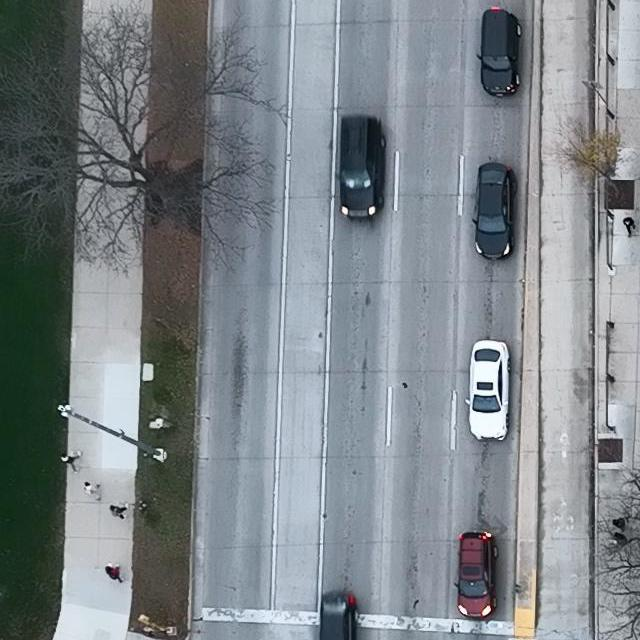car: (336, 116, 386, 222), (463, 340, 510, 441), (471, 162, 517, 261), (477, 7, 522, 98), (453, 531, 499, 620), (320, 591, 359, 640)
